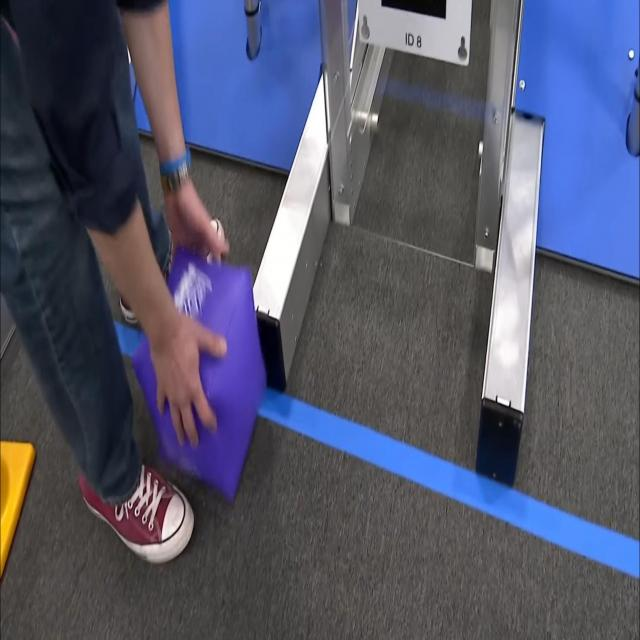frc_cone: (0, 432, 33, 582)
frc_cube: (130, 249, 264, 502)
